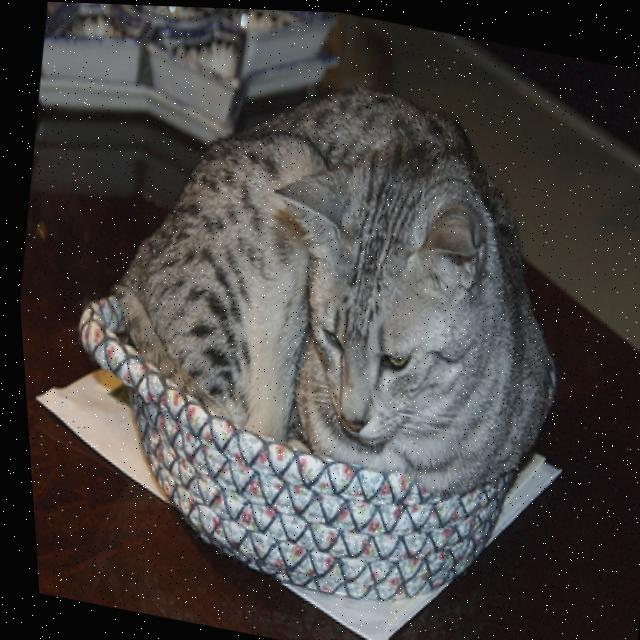Egyptian Mau: (77, 29, 604, 505)
